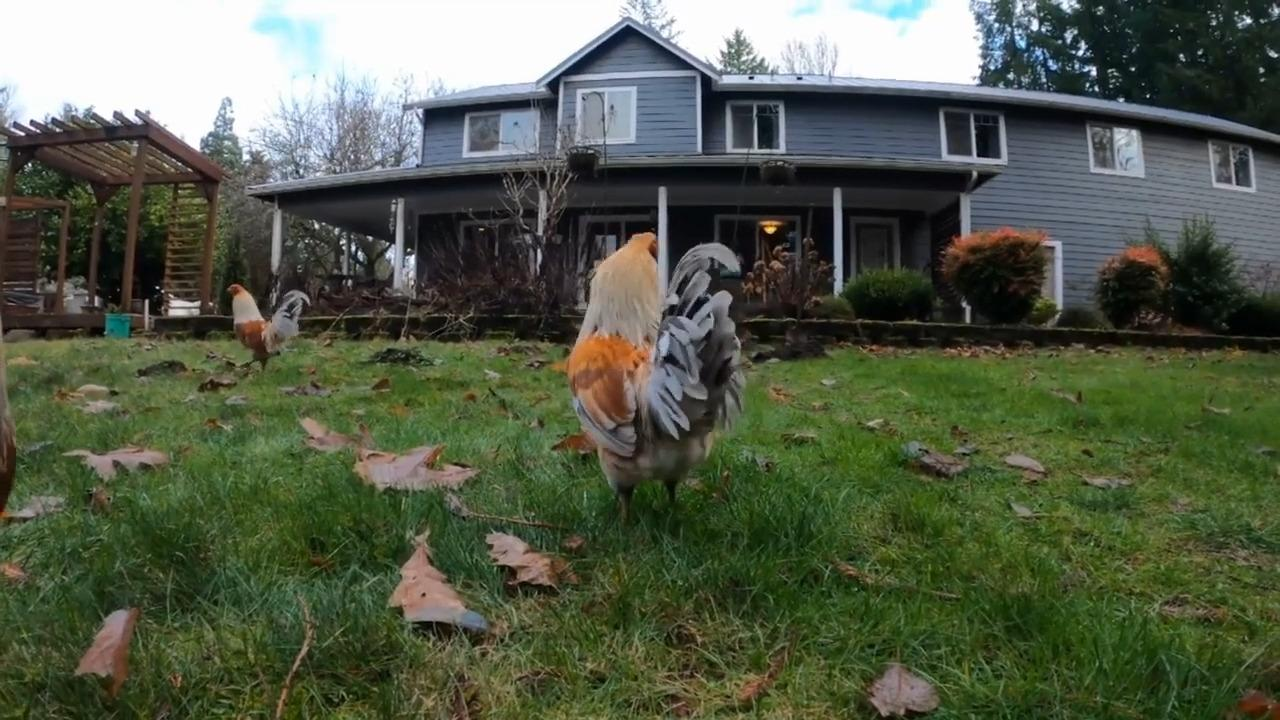Normal: (554, 212, 754, 514)
